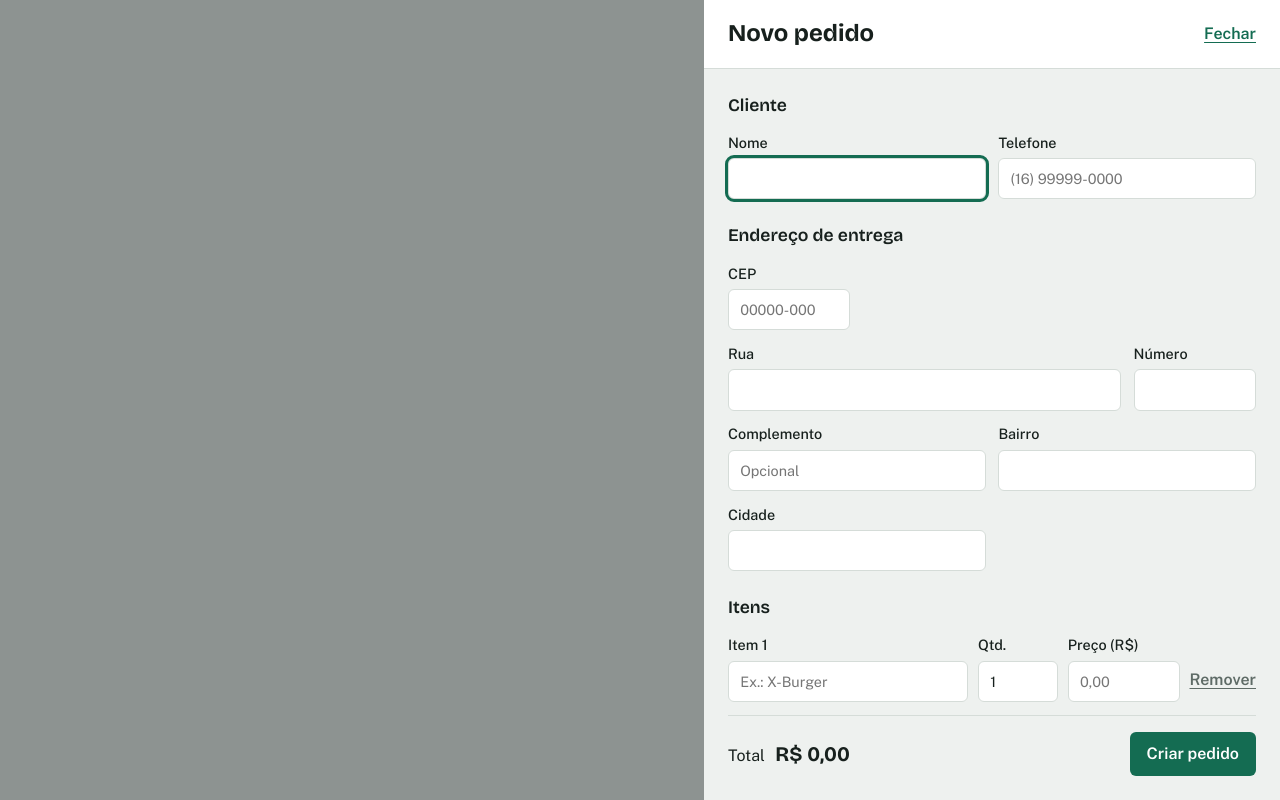
NewOrderPanel › enviar com a confirmação de descarte aberta fecha a confirmação, e "Descartar" some
In the field labelled "Nome": (857, 179) [728, 158, 986, 199], type "Fernanda"
In the field labelled "Telefone": (1127, 179) [998, 158, 1256, 199], type "16999990000"
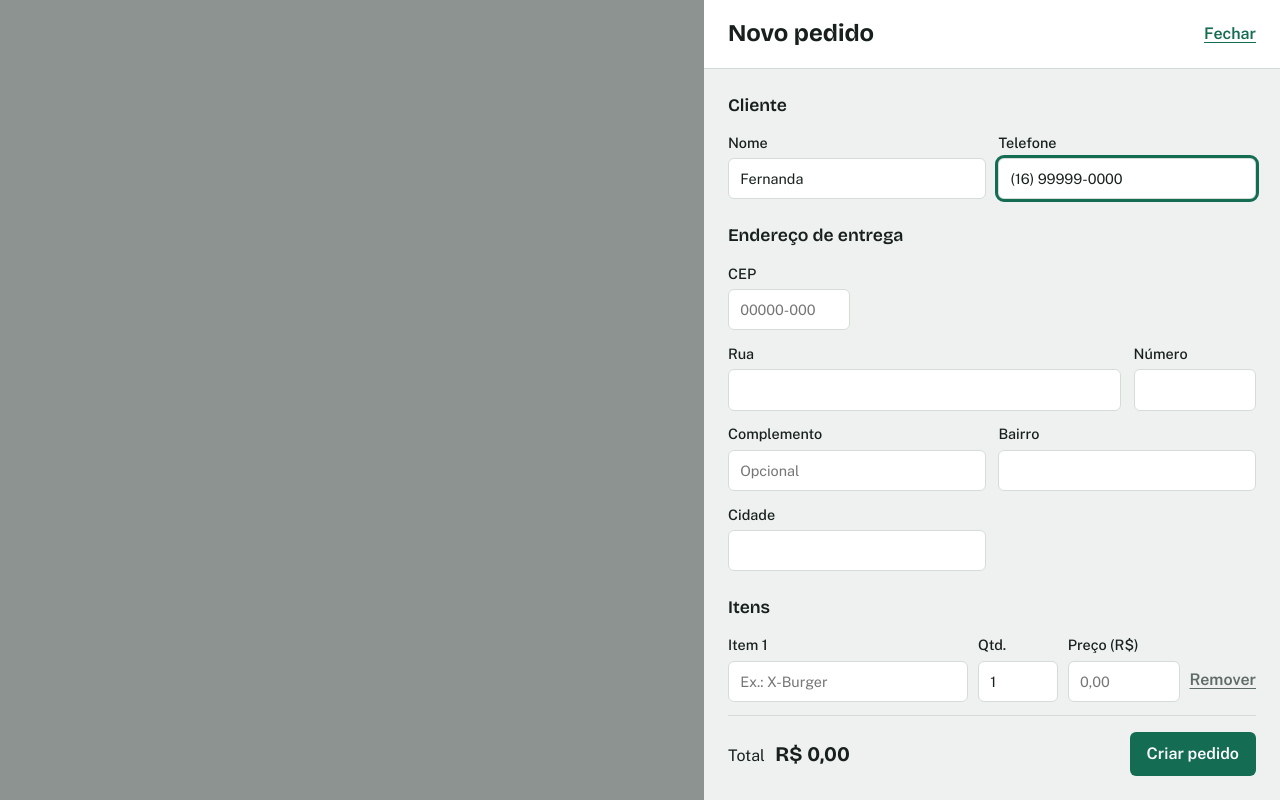
In the field labelled "CEP": (789, 310) [728, 289, 850, 330], type "14400120"
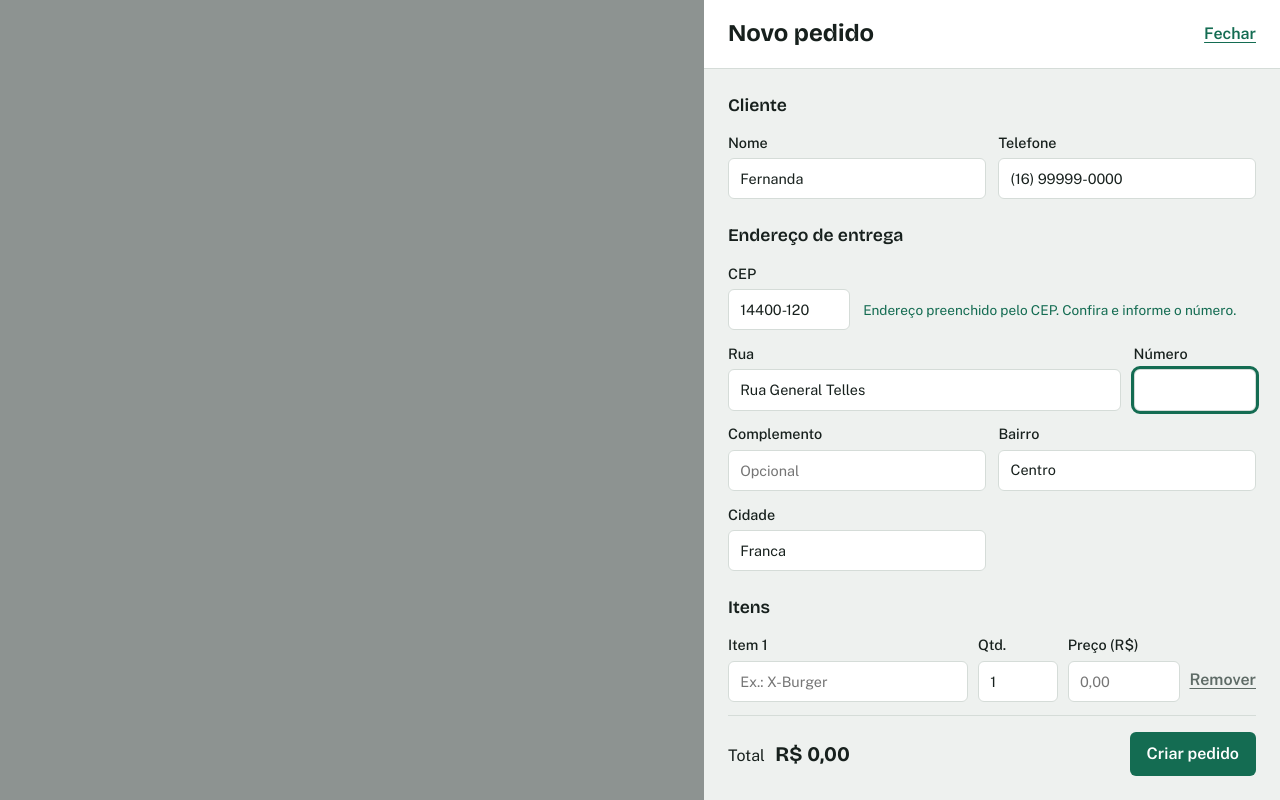
In the field labelled "Número": (1195, 390) [1134, 369, 1256, 410], type "1"
In the field labelled "Item 1": (848, 681) [728, 661, 968, 702], type "Pastel"
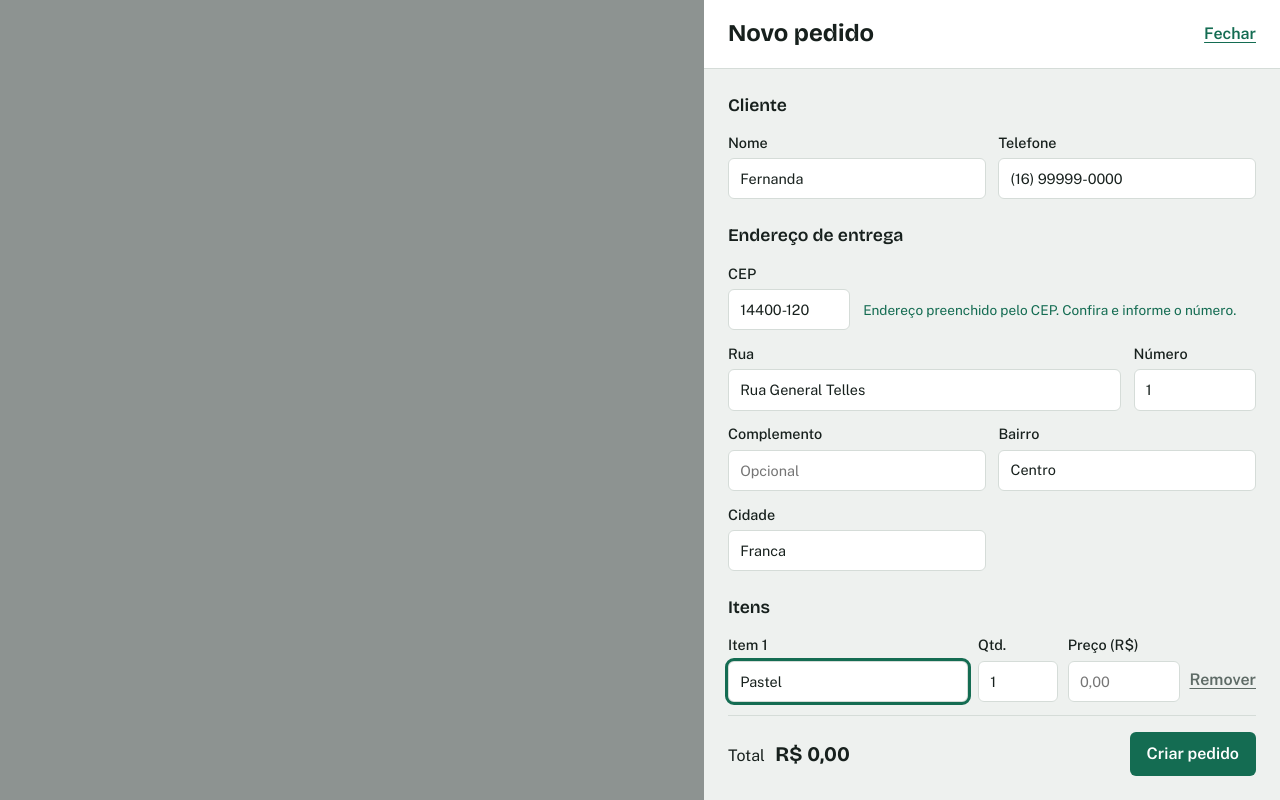
In the field labelled "Preço (R$)": (1124, 681) [1068, 661, 1180, 702], type "1000"
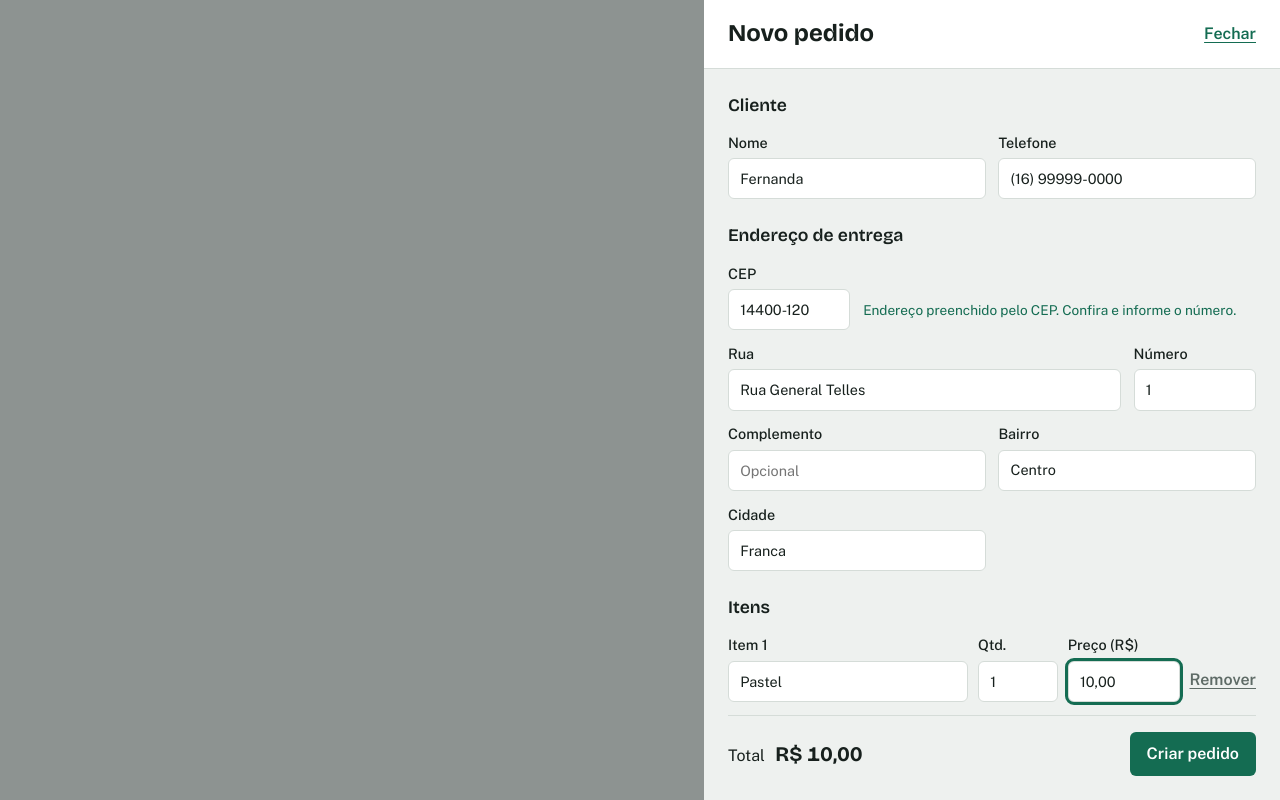
Press Escape
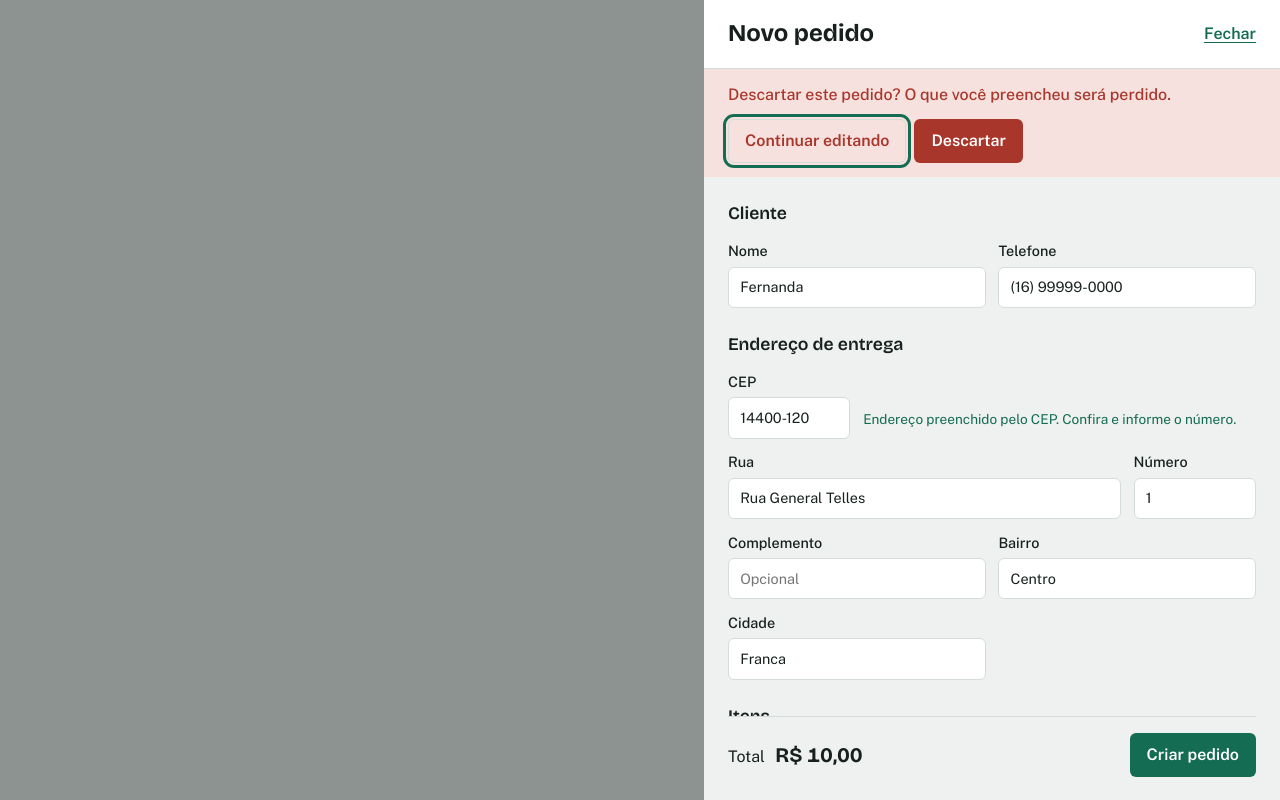
Now the dialog is shown, box [704, 69, 1279, 177]
Click the button "Criar pedido": (1193, 754) [1130, 732, 1256, 776]
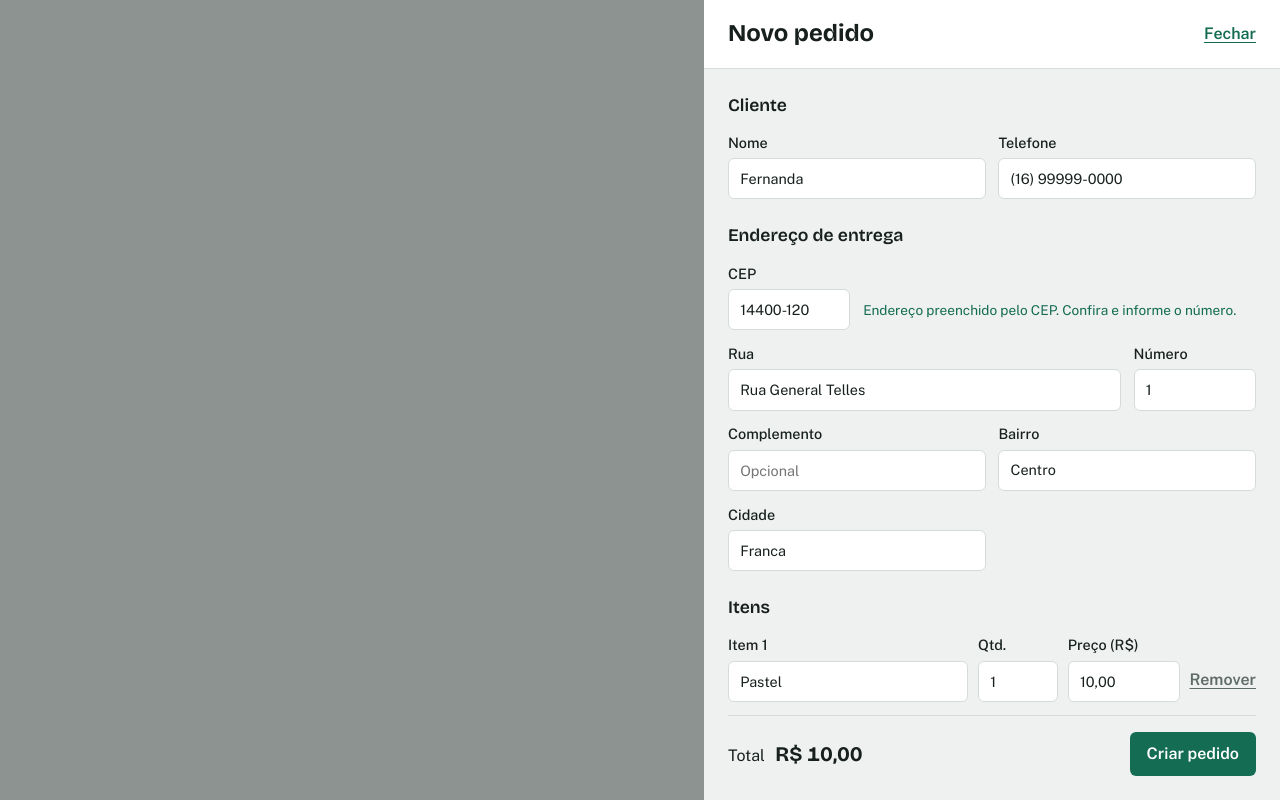
Now the text "Descartar" is gone
